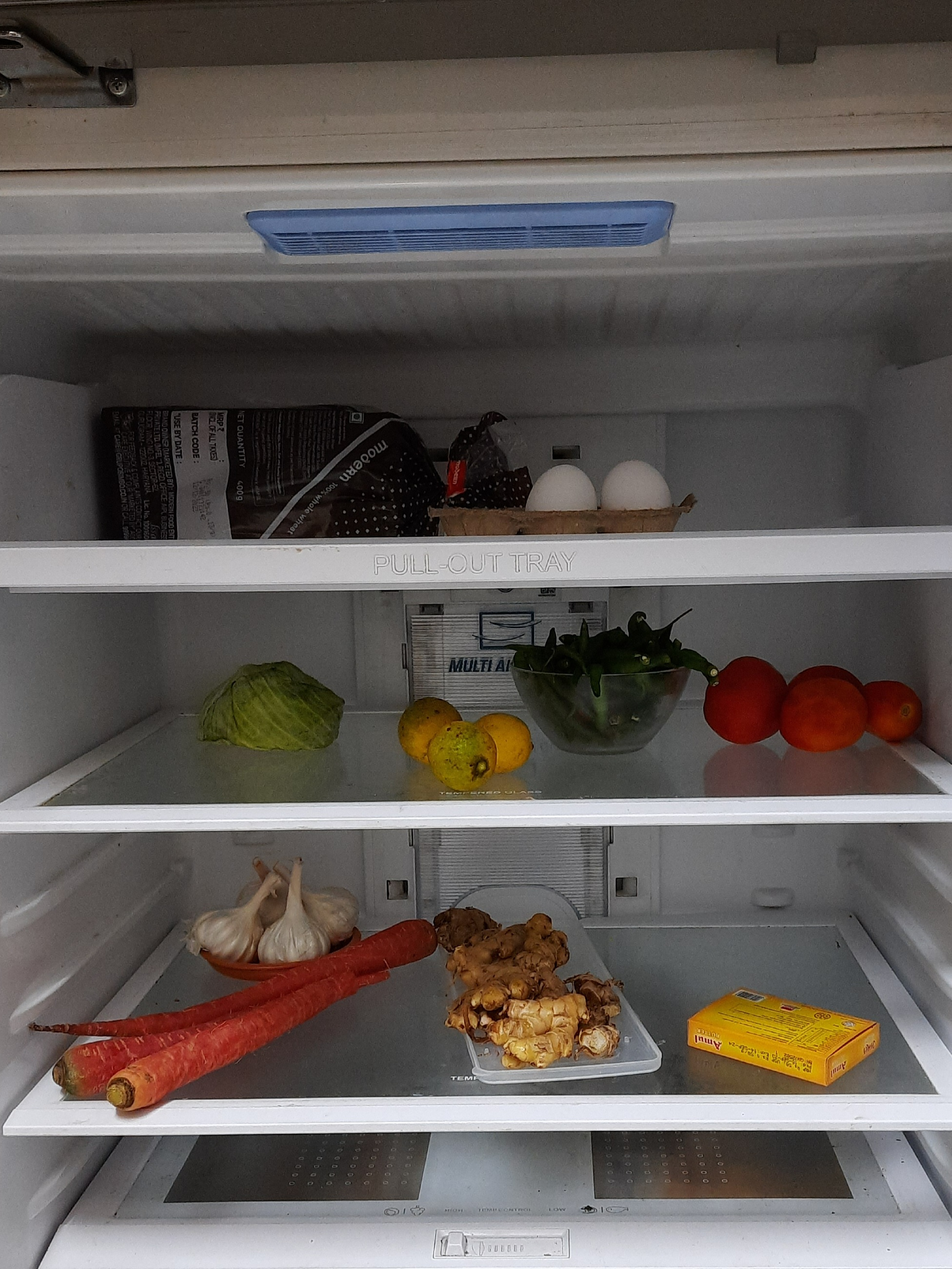bread: (89, 398, 510, 545)
butter: (684, 984, 881, 1086)
carrots: (36, 962, 452, 1105), (206, 922, 439, 964)
chillies: (518, 619, 693, 747)
cucumber: (195, 662, 350, 753)
egg: (524, 459, 684, 527)
garlic: (195, 859, 366, 969)
ginger: (452, 915, 629, 1070)
lemon: (395, 691, 535, 790)
tomato: (702, 659, 922, 748)
